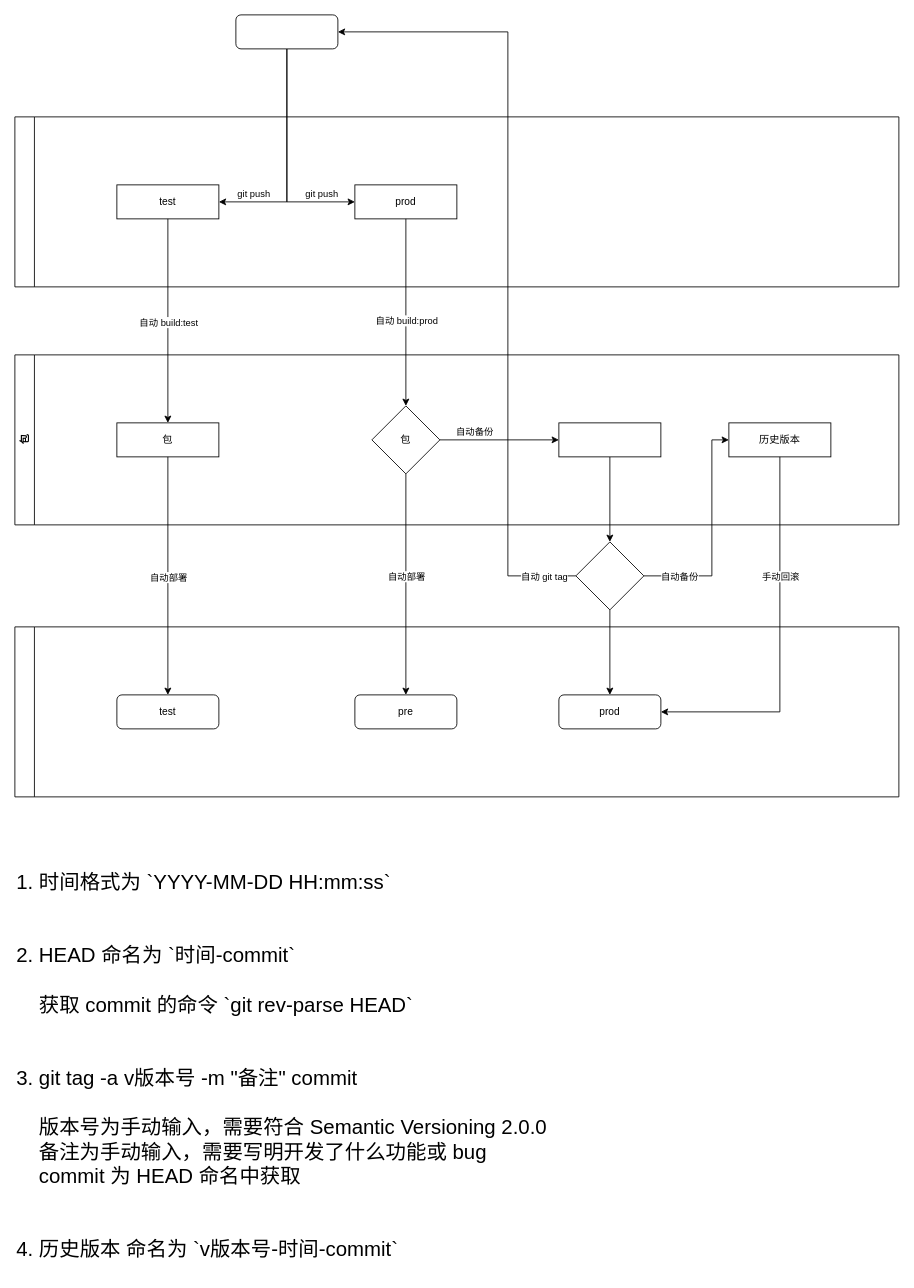
Image size: 914x1288. Some labels were removed from this diagram. The box of each missing label's shape, as (x1, y1, x2, y2) in pixels:
git 分支: (14, 116, 899, 287)
HEAD: (558, 422, 661, 457)
代码: (235, 14, 338, 49)
手动部署: (575, 541, 644, 610)
线上环境: (14, 626, 899, 797)
